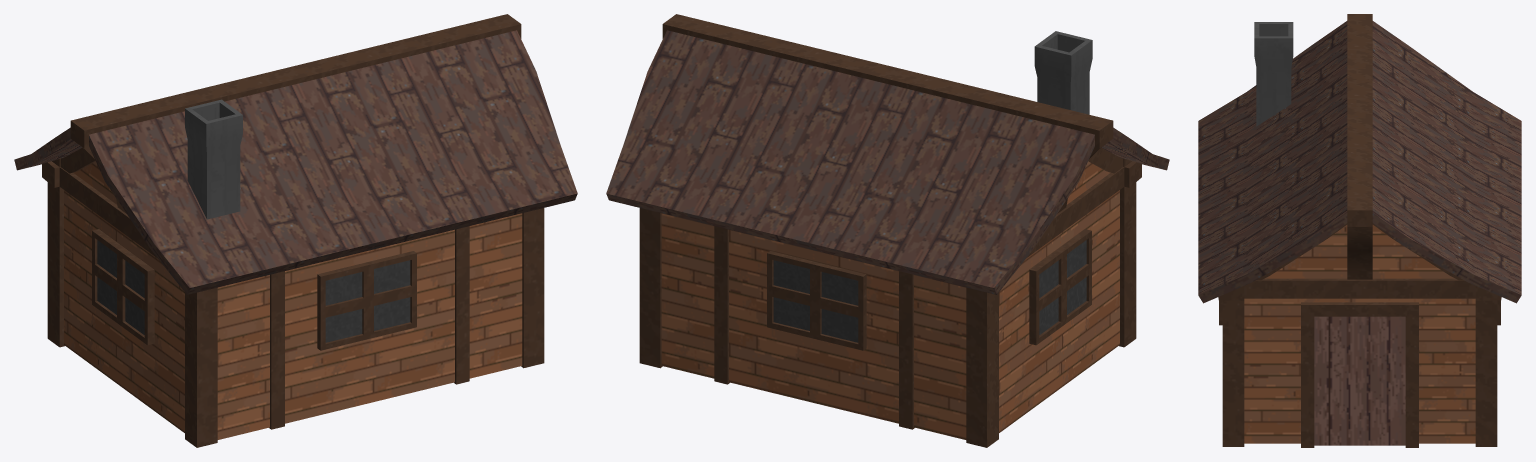
Rendered from L1_Village_house1.fbx.
The picture shows the model from 3 angles, left to right: view 1: azimuth 30°, elevation 25°; view 2: azimuth 150°, elevation 25°; view 3: azimuth 270°, elevation 25°; orthographic projection. The views are drawn at different scales.
Visible parts, largest first — view 1: L1_Village_house1; view 2: L1_Village_house1; view 3: L1_Village_house1.
Part boxes in pixels (x1=…): L1_Village_house1: x1=14, y1=14, x2=577, y2=447; L1_Village_house1: x1=606, y1=14, x2=1169, y2=447; L1_Village_house1: x1=1198, y1=14, x2=1521, y2=447.
Size of the model in its own units: 516 by 345 by 360.
Materials: 1 (1 with a texture image).
